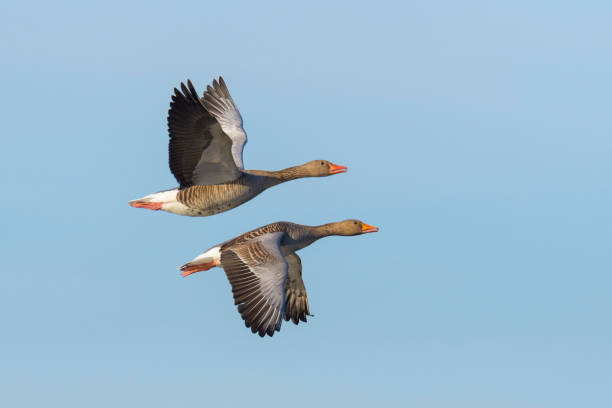Bird: (126, 71, 348, 221), (177, 218, 380, 340)
